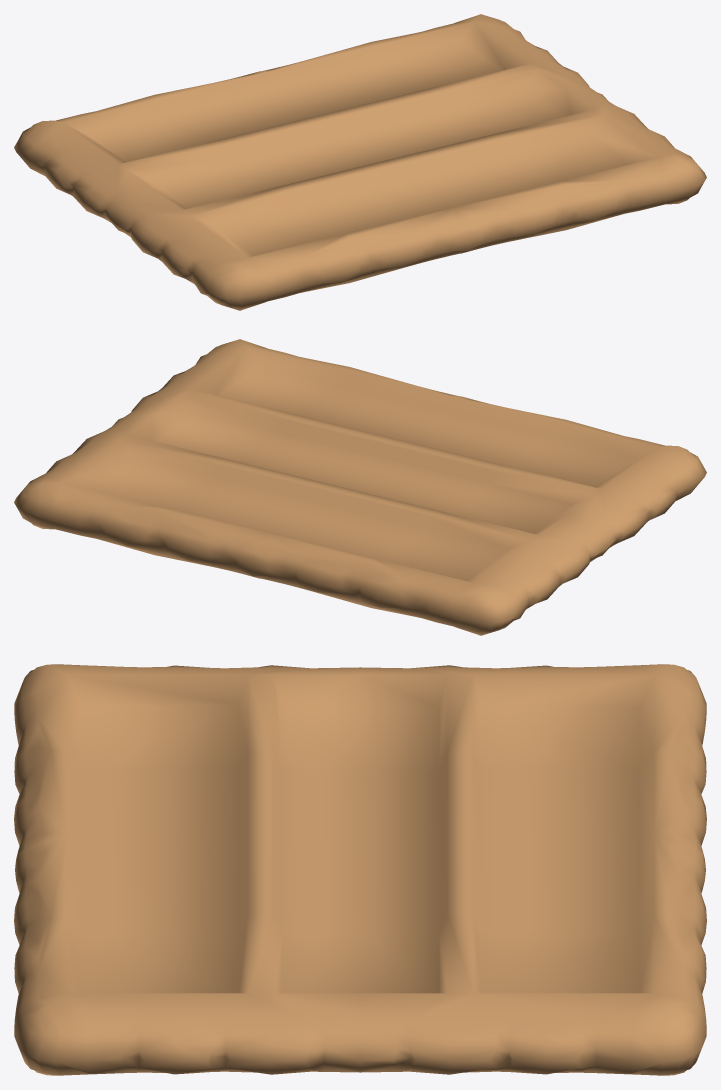
File: cookie_1.fbx
3 renders of one model, top to bottom at view 1: azimuth 30°, elevation 25°; view 2: azimuth 150°, elevation 25°; view 3: azimuth 270°, elevation 25°, orthographic. The views are drawn at different scales.
Visible parts, largest first — view 1: 平面.008; view 2: 平面.008; view 3: 平面.008.
Part boxes in pixels (bbox=[...]): 平面.008: bbox=[14, 14, 706, 310]; 平面.008: bbox=[14, 339, 706, 635]; 平面.008: bbox=[14, 664, 706, 1075].
Bounding box in the file's own units: 28.57 × 2.48 × 21.74.
